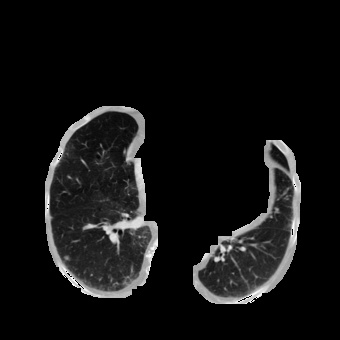PN: (64, 254, 70, 260)
